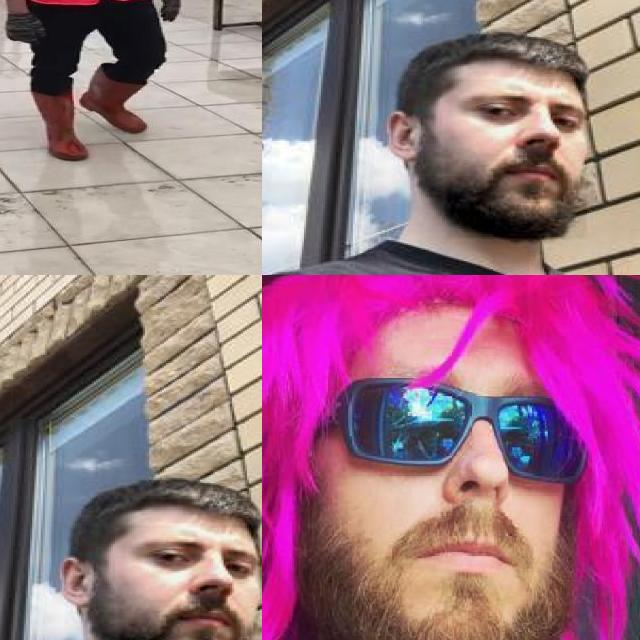No_Ear-Protection: (381, 108, 430, 169), (54, 554, 103, 615)
No_Glasses: (450, 83, 595, 149), (123, 529, 262, 595)
boots: (81, 66, 149, 132), (30, 92, 90, 160)
face_nomask: (336, 371, 576, 593), (446, 79, 589, 240), (119, 524, 261, 640)
glasses: (326, 369, 581, 484)
head_nohelmet: (262, 275, 640, 357), (438, 29, 599, 96), (110, 475, 262, 542)
person: (0, 0, 190, 161)
